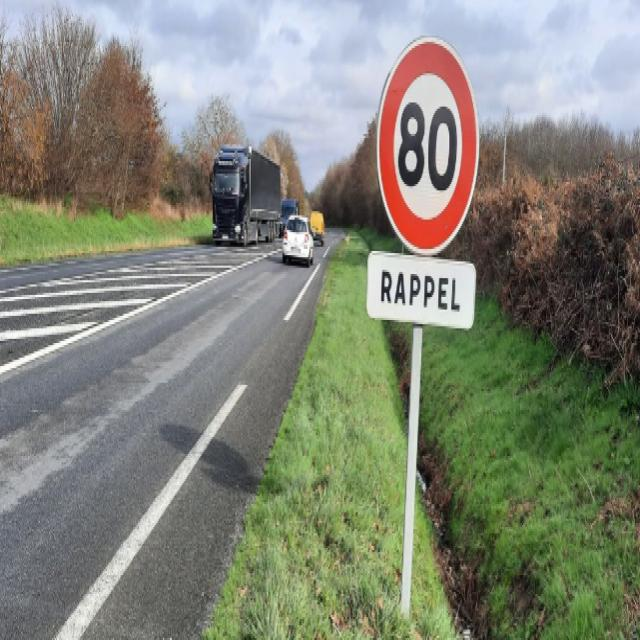speed_80: (376, 40, 480, 256)
